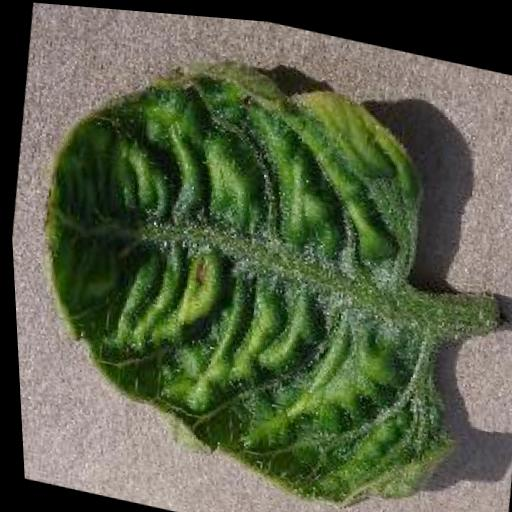Yellow Leaf Curl Virus: (0, 8, 499, 512)
